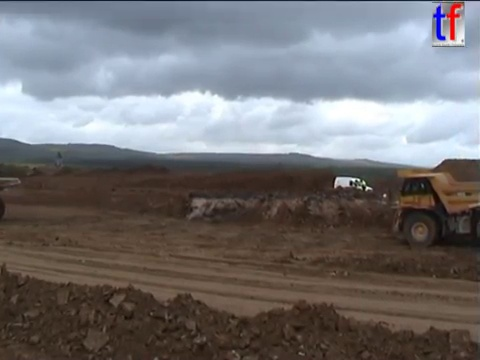truck: (381, 164, 480, 248), (1, 175, 22, 221)
worker: (358, 176, 368, 197), (350, 177, 360, 196)
